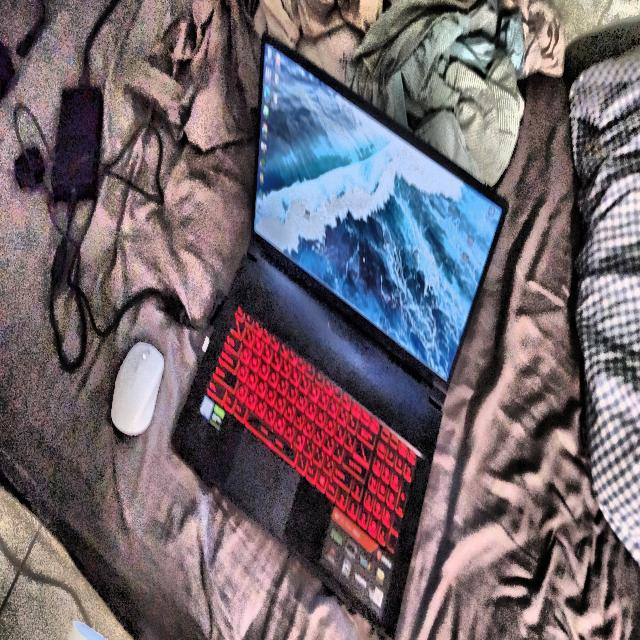Laptop: (172, 34, 506, 635)
MOUSE: (111, 343, 164, 435)
